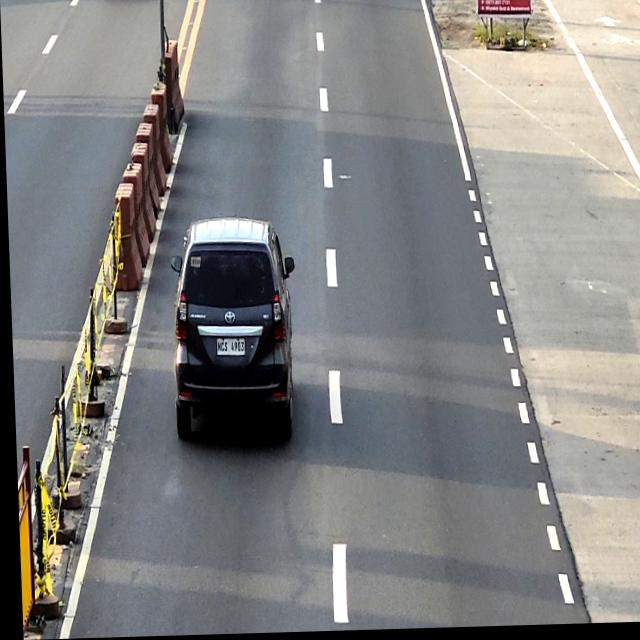Car: (167, 217, 298, 447)
License-Plate: (214, 341, 243, 357)
